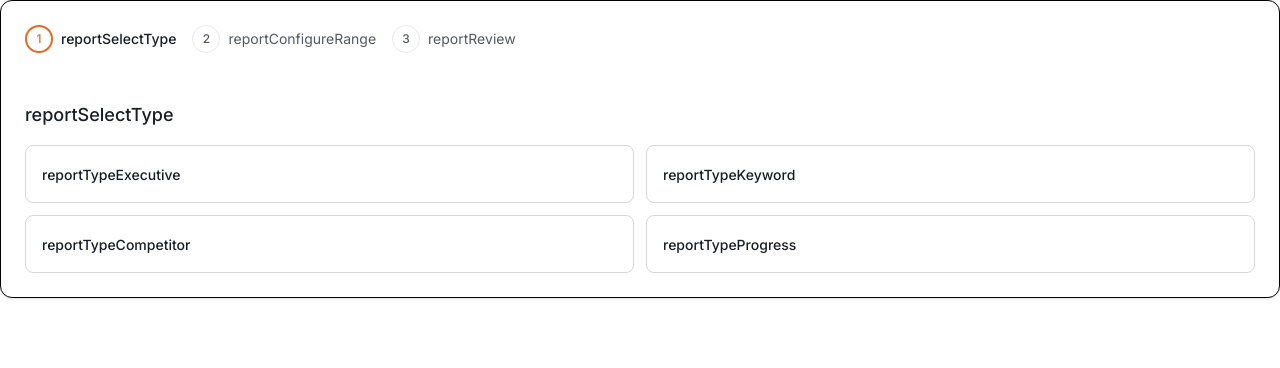
Test case: ReportGenerationWizard › shows review step after selecting date range
This screenshot has width=1280, height=368.
Click the button "reportTypeExecutive".
click(111, 174)  # box [25,145,634,203]
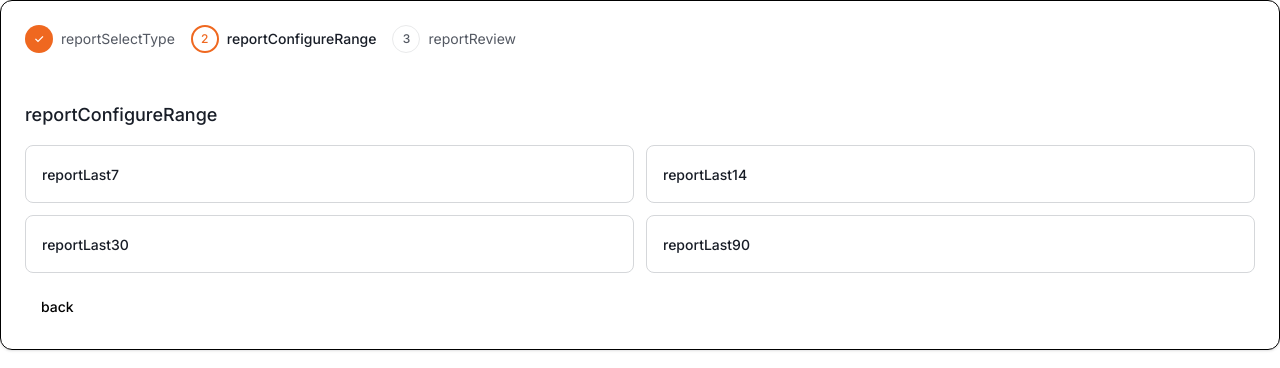
Click the button "reportLast30".
click(85, 244)  # box [25,215,634,273]
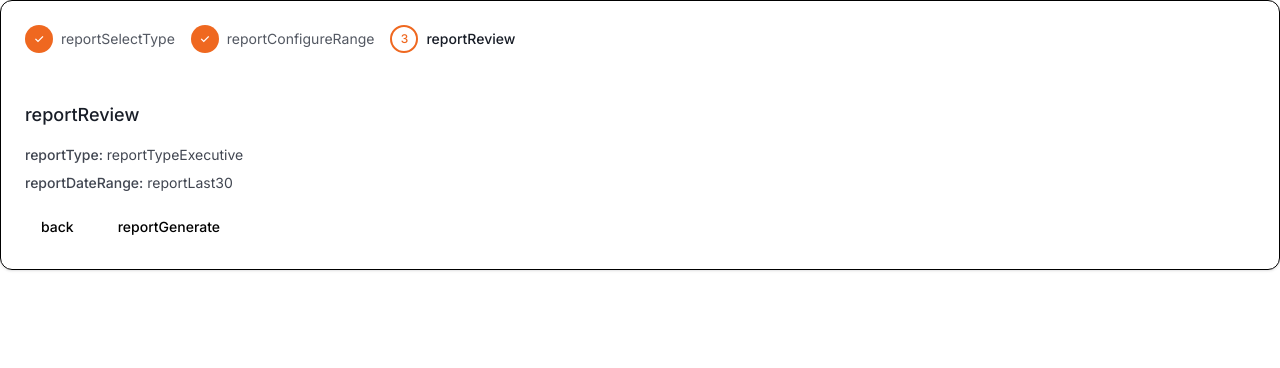
Now the button "reportGenerate" is shown, box [102,209,236,245]
